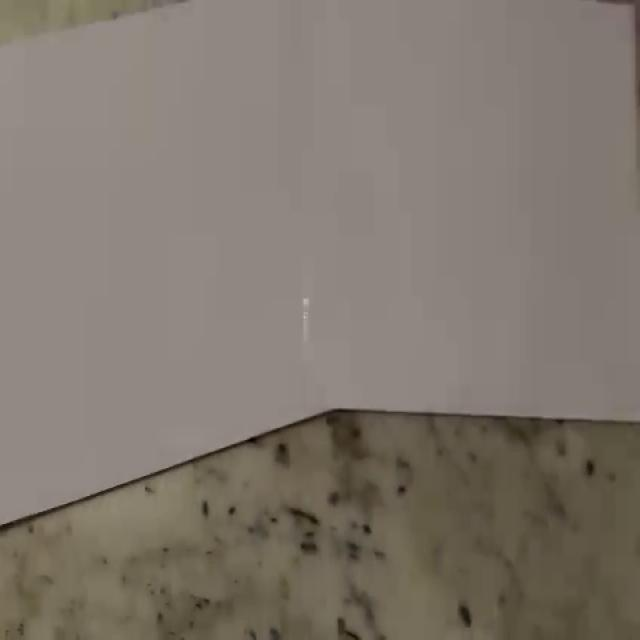road: (0, 0, 640, 528)
